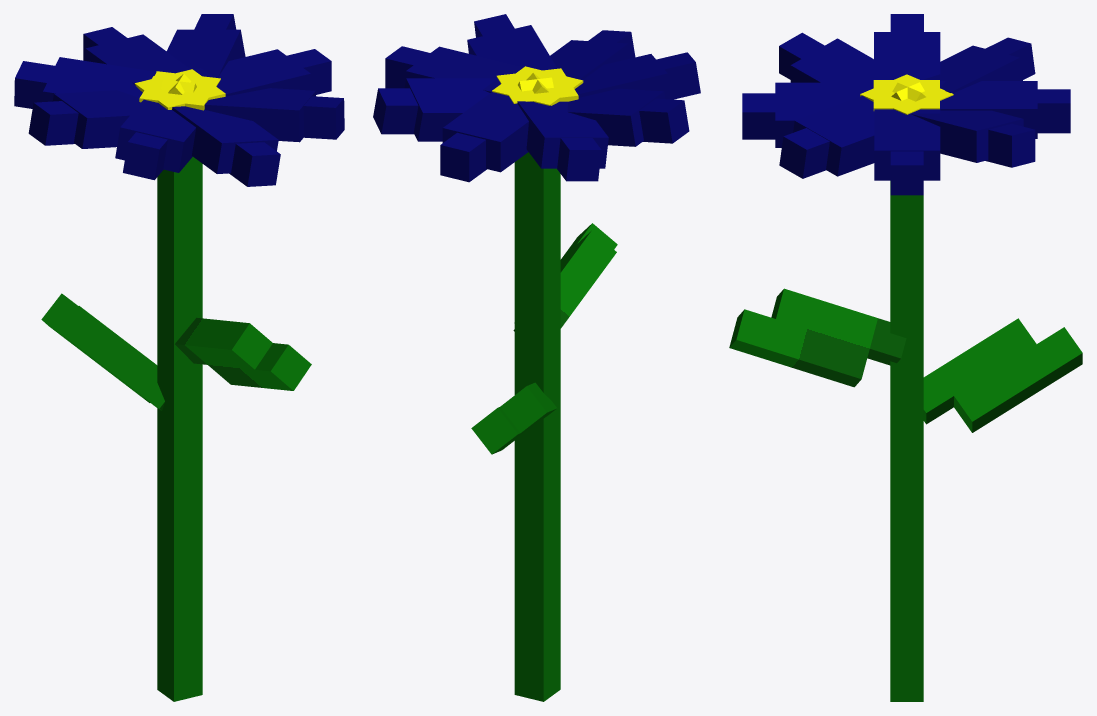
File: Plant_11_glt.glb
The picture shows the model from 3 angles, left to right: view 1: azimuth 30°, elevation 25°; view 2: azimuth 150°, elevation 25°; view 3: azimuth 270°, elevation 25°; orthographic projection.
Visible parts, largest first — view 1: Node$$(8)-Local, green1-Local, Node$$(2)-Local, leaf_-Local, leaf_2-Local, lesaf_3-Local, leaf_1-Local, Leaf_7-Local, leaf_4-Local, leaf_6-Local, Node$$(5)-Local, 2-Local (+9 smaller); view 2: Node$$(8)-Local, Node$$(5)-Local, leaf_6-Local, leaf_4-Local, lesaf_3-Local, green1-Local, Node$$(2)-Local, Leaf_7-Local, leaf_1-Local, leaf_-Local, leaf_2-Local, 8-Local (+9 smaller); view 3: Node$$(8)-Local, green1-Local, Node$$(2)-Local, leaf_-Local, leaf_1-Local, Leaf_7-Local, leaf_6-Local, leaf_2-Local, Node$$(5)-Local, lesaf_3-Local, leaf_4-Local, 5-Local (+9 smaller).
Boxes of the visible parts, x1=… form: Node$$(8)-Local: x1=157, y1=157, x2=202, y2=701; green1-Local: x1=175, y1=317, x2=311, y2=390; Node$$(2)-Local: x1=41, y1=293, x2=164, y2=410; leaf_-Local: x1=204, y1=88, x2=315, y2=142; leaf_2-Local: x1=172, y1=106, x2=278, y2=173; lesaf_3-Local: x1=52, y1=90, x2=140, y2=148; leaf_1-Local: x1=193, y1=49, x2=310, y2=96; Leaf_7-Local: x1=115, y1=99, x2=195, y2=172; leaf_4-Local: x1=42, y1=57, x2=156, y2=101; leaf_6-Local: x1=166, y1=29, x2=245, y2=77; Node$$(5)-Local: x1=85, y1=34, x2=190, y2=85; 2-Local: x1=229, y1=142, x2=280, y2=186; Node$$(8)-Local: x1=514, y1=152, x2=560, y2=701; Node$$(5)-Local: x1=442, y1=92, x2=550, y2=172; leaf_6-Local: x1=404, y1=78, x2=497, y2=141; leaf_4-Local: x1=517, y1=101, x2=608, y2=168; lesaf_3-Local: x1=567, y1=88, x2=665, y2=146; green1-Local: x1=513, y1=223, x2=617, y2=331; Node$$(2)-Local: x1=471, y1=382, x2=556, y2=454; Leaf_7-Local: x1=574, y1=54, x2=671, y2=99; leaf_1-Local: x1=406, y1=46, x2=523, y2=92; leaf_-Local: x1=467, y1=25, x2=557, y2=70; leaf_2-Local: x1=550, y1=40, x2=630, y2=80; 8-Local: x1=440, y1=132, x2=486, y2=182; Node$$(8)-Local: x1=890, y1=181, x2=923, y2=701; green1-Local: x1=729, y1=288, x2=906, y2=387; Node$$(2)-Local: x1=923, y1=318, x2=1082, y2=432; leaf_-Local: x1=793, y1=95, x2=874, y2=176; leaf_1-Local: x1=874, y1=109, x2=940, y2=180; Leaf_7-Local: x1=790, y1=38, x2=902, y2=82; leaf_6-Local: x1=910, y1=110, x2=1023, y2=162; leaf_2-Local: x1=775, y1=82, x2=873, y2=147; Node$$(5)-Local: x1=940, y1=81, x2=1037, y2=138; lesaf_3-Local: x1=874, y1=32, x2=940, y2=79; leaf_4-Local: x1=923, y1=45, x2=1022, y2=93; 5-Local: x1=779, y1=128, x2=829, y2=178.
Size of the model in its own units: 9.92 by 20.44 by 10.66.
Materials: 23 (23 with a texture image).
